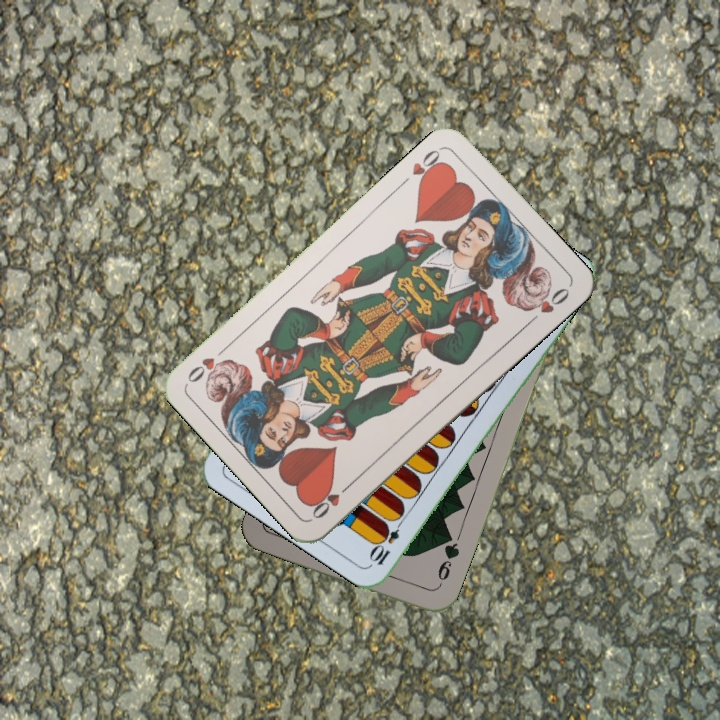E10: (367, 513, 407, 568)
G9: (432, 532, 462, 591)
HO: (308, 477, 356, 522), (408, 144, 447, 189)
